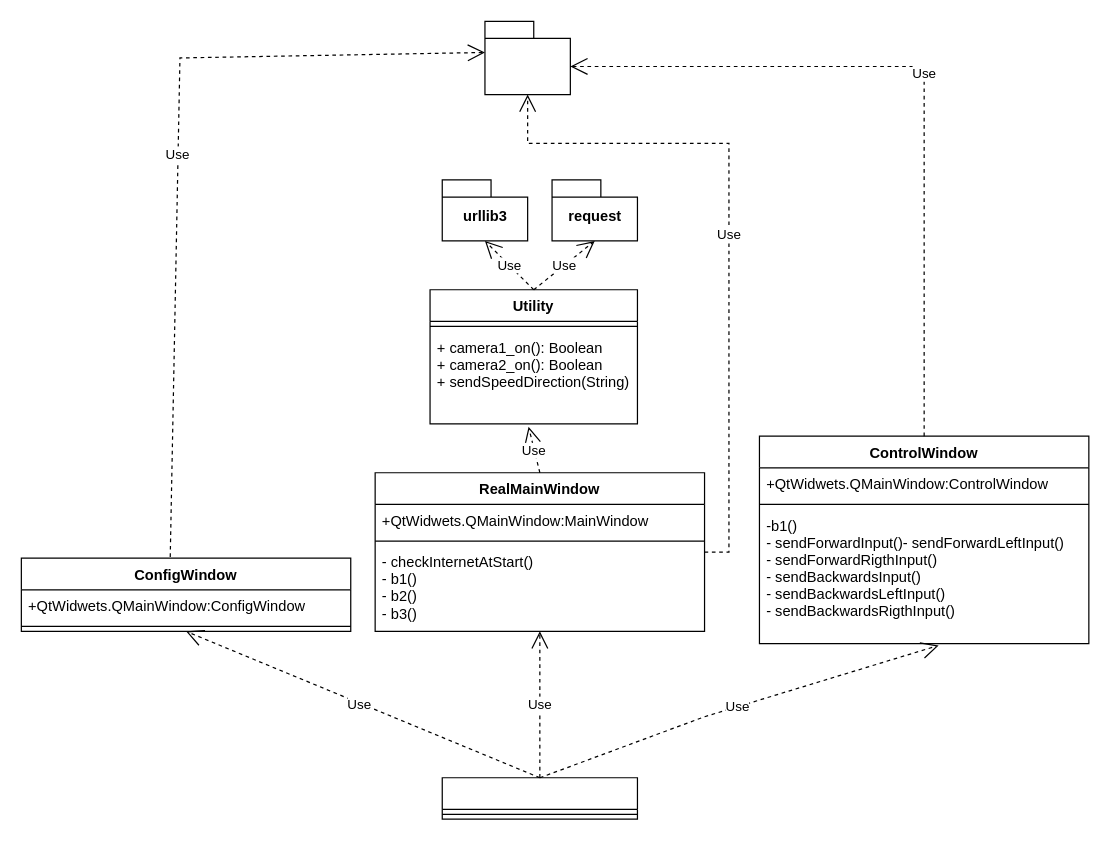
The diagram is 1110 pixels wide and 841 high, and some of its shapes have lost their labels. The centre of each missing label's shape, as x and y in pixels:
main: (x=539, y=798)
PyQt5: (x=527, y=57)
